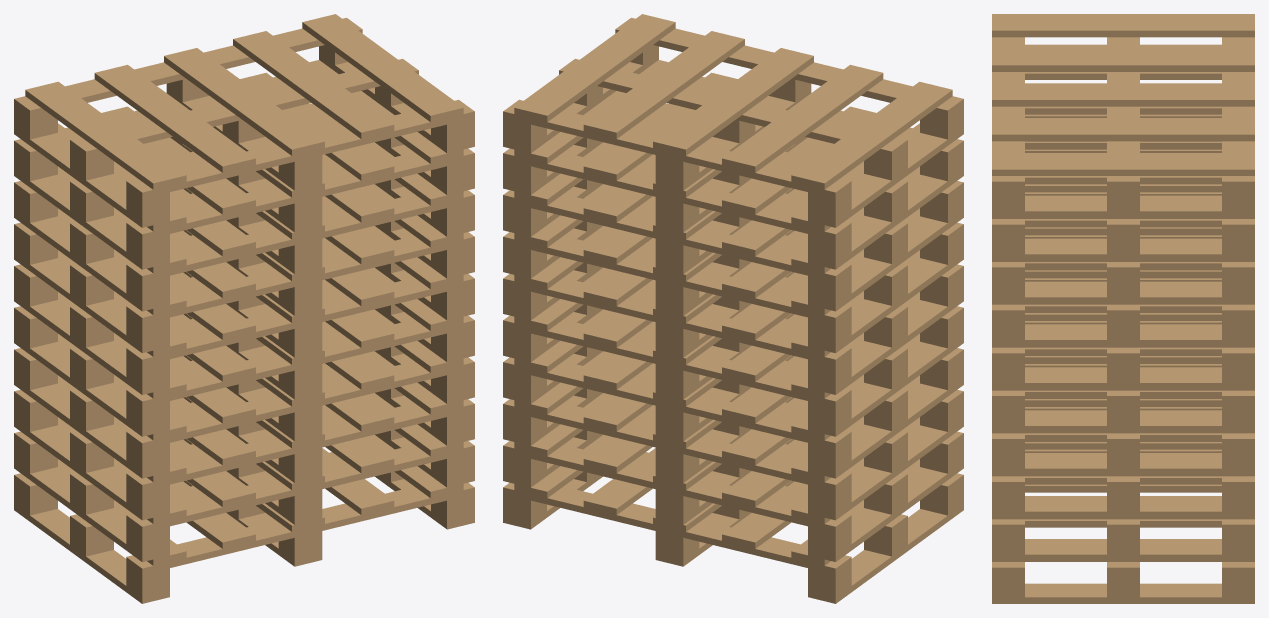
The model's file is lgx-007.glb.
3 renders of one model, left to right at view 1: azimuth 30°, elevation 25°; view 2: azimuth 150°, elevation 25°; view 3: azimuth 270°, elevation 25°, orthographic. The views are drawn at different scales.
Parts seen in each view (by area): view 1: oak; view 2: oak; view 3: oak.
Boxes of the visible parts, box(x1,y1,x2,y2) form: oak: box(14, 14, 474, 603); oak: box(503, 14, 963, 603); oak: box(992, 14, 1254, 603).
Size of the model in its own units: 1.2 by 1.44 by 0.8.
